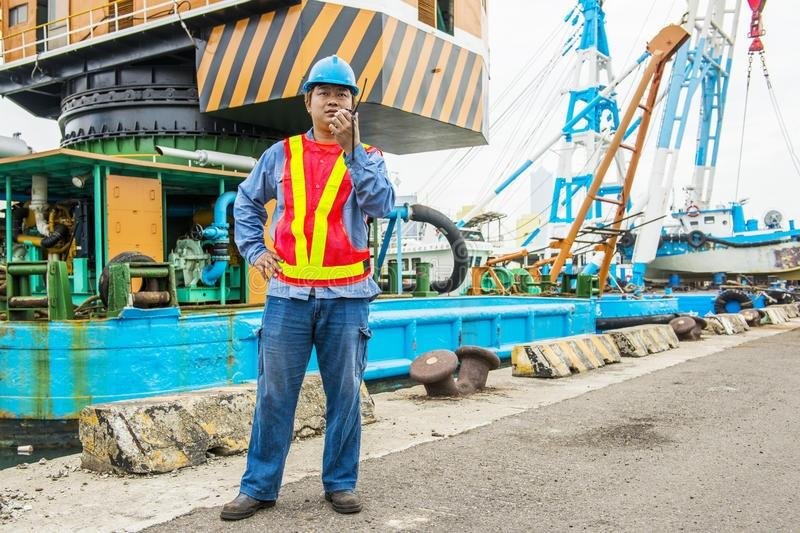helmet: (298, 56, 361, 93)
wear: (265, 142, 378, 294)
